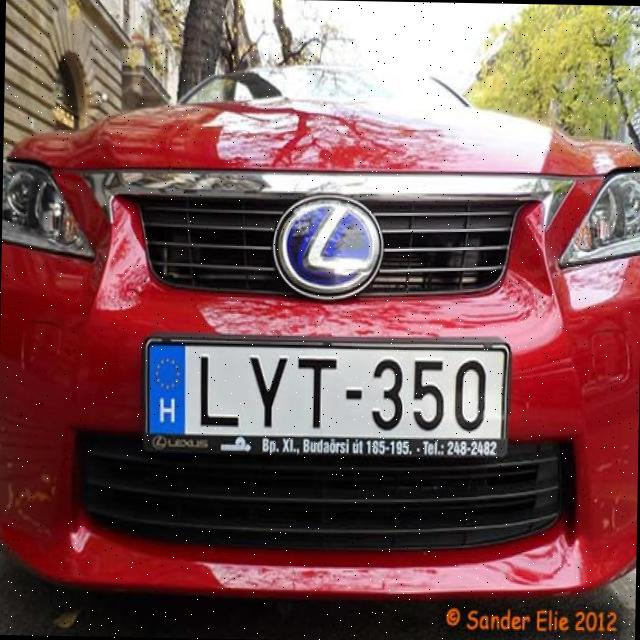licence: (140, 332, 512, 461)
